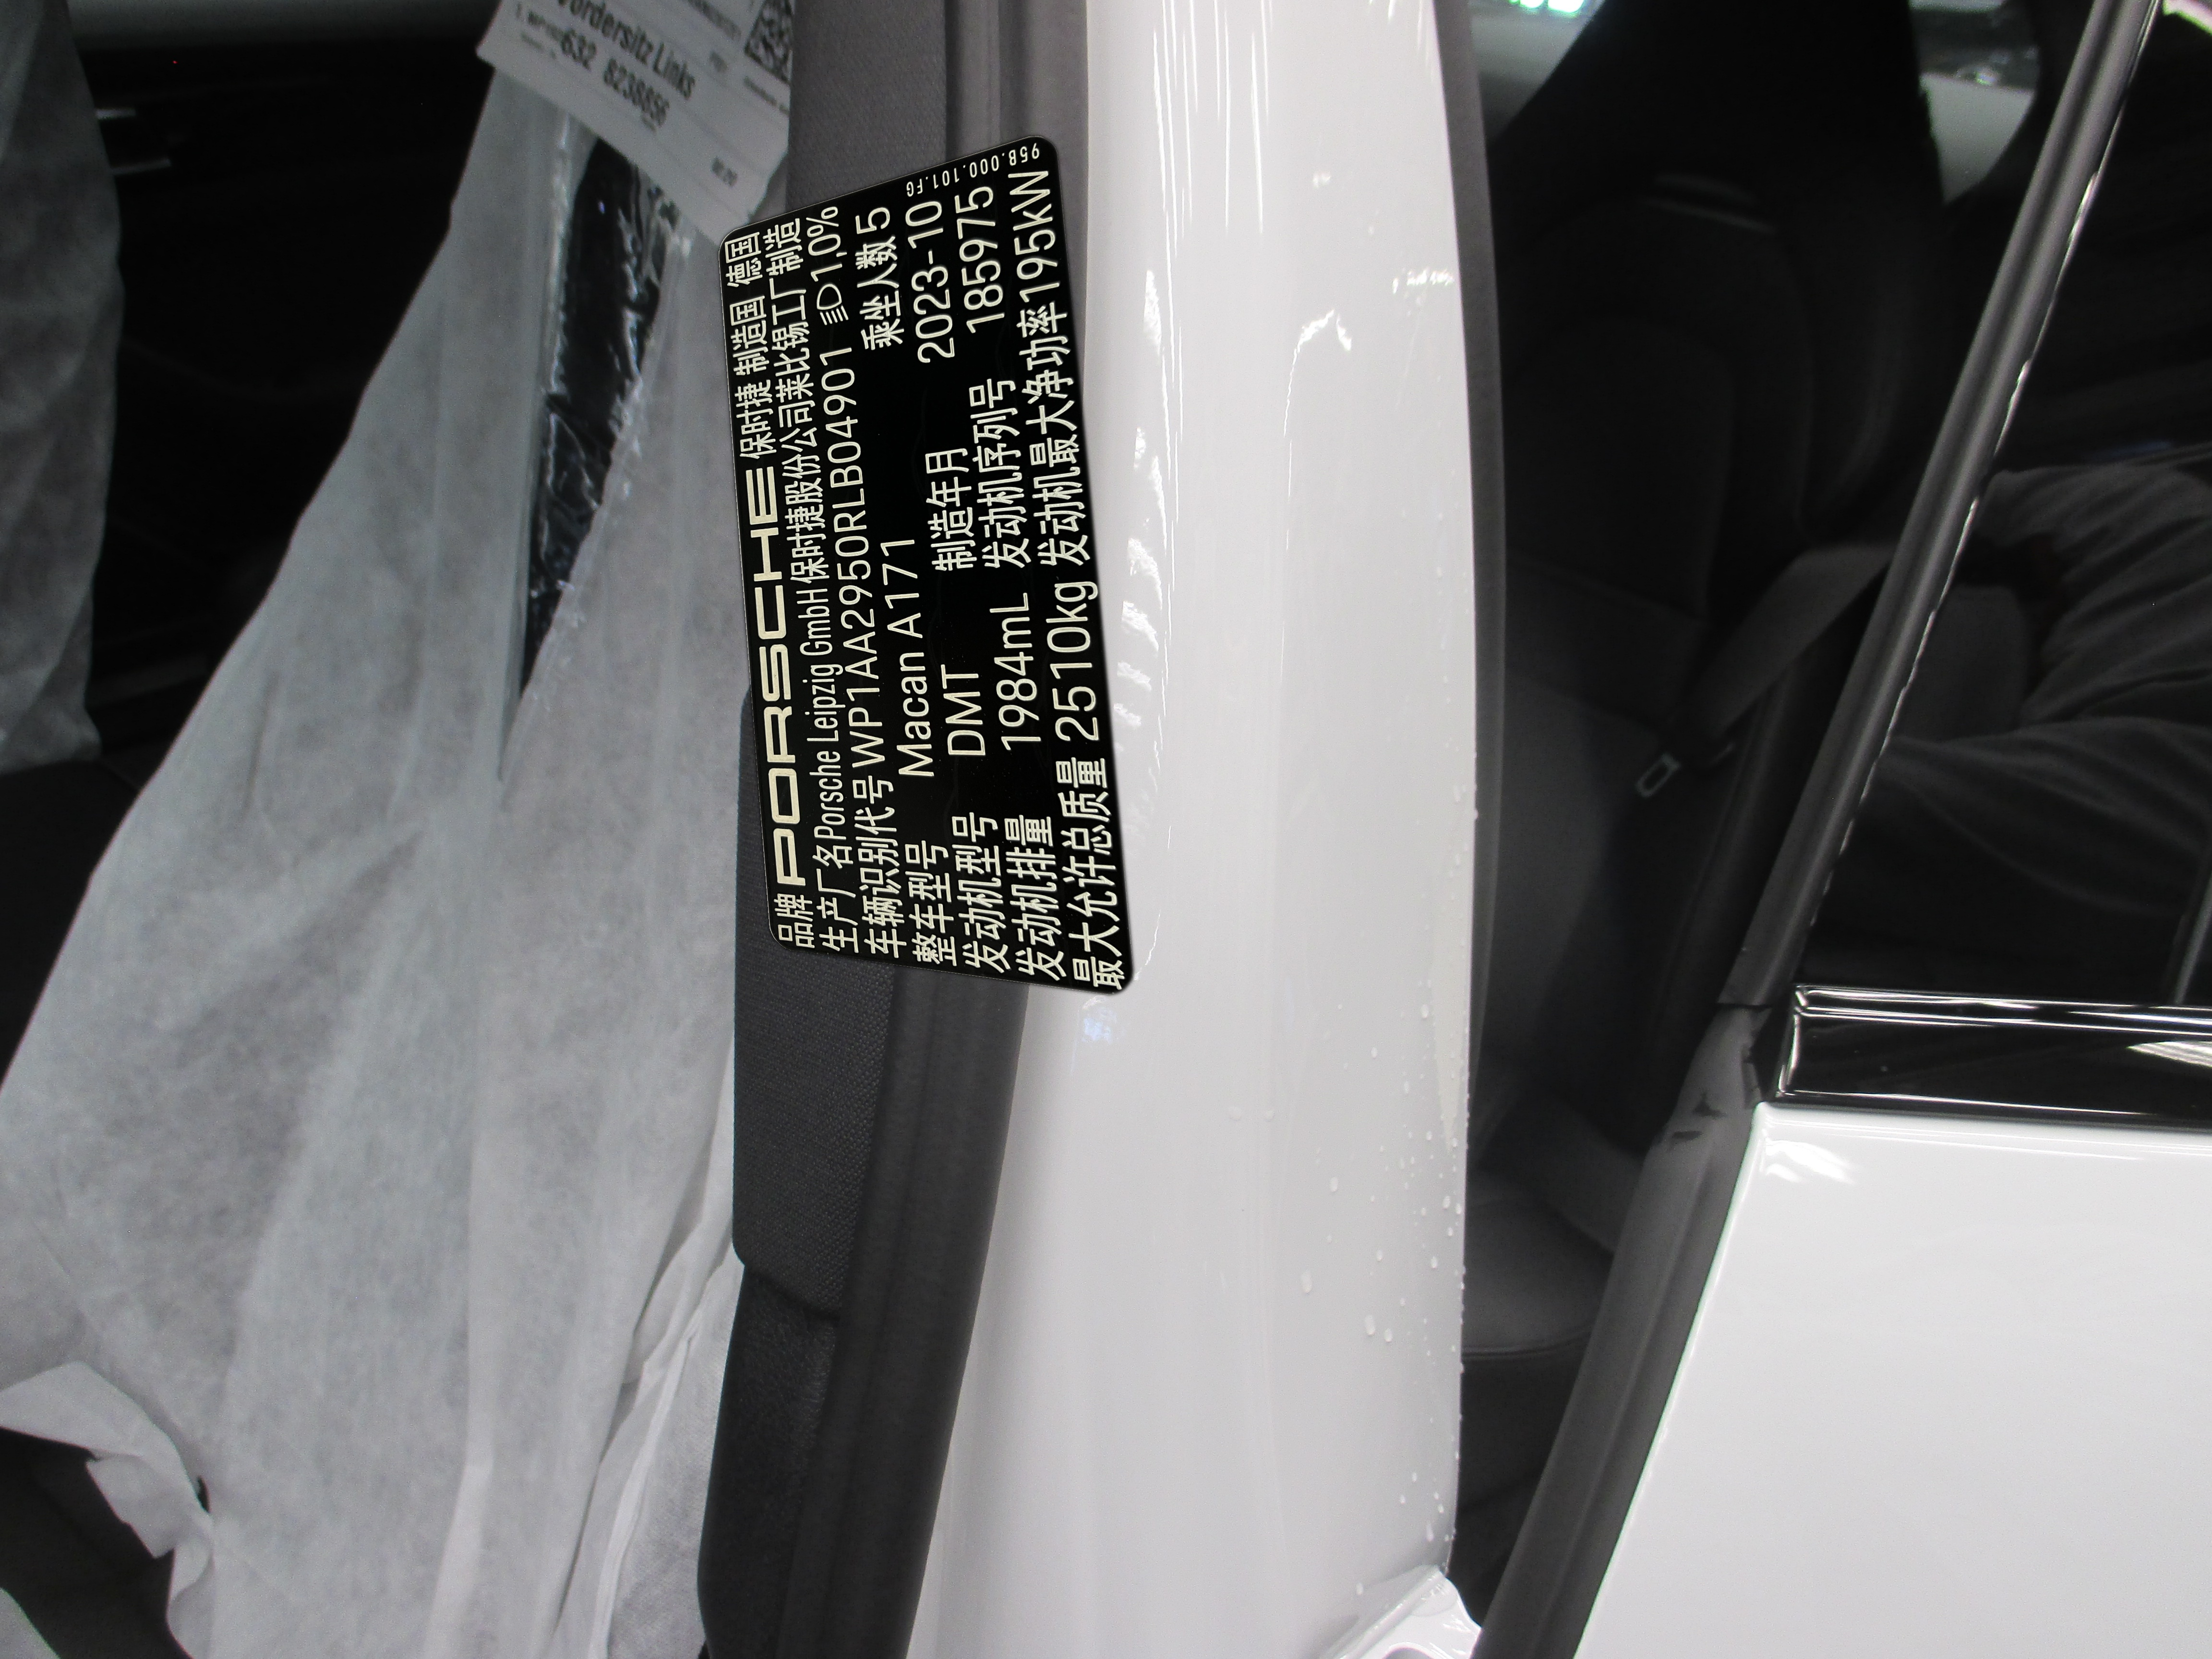Typlabel-China: (719, 136, 1132, 993)
